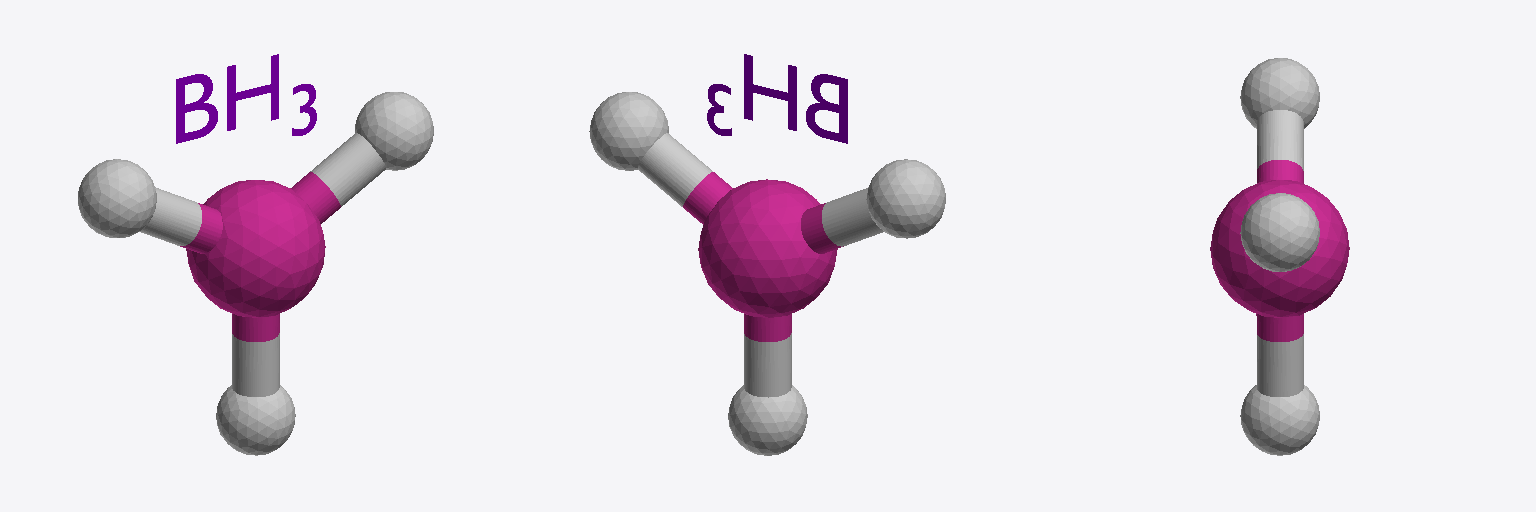
3 views of the same model, side by side, from view 1: azimuth 30°, elevation 25°; view 2: azimuth 150°, elevation 25°; view 3: azimuth 270°, elevation 25° (orthographic).
Parts seen in each view (by area): view 1: Shape_IndexedFaceSet.008_Shape_IndexedFaceSet.046, Shape_IndexedFaceSet.001_Shape_IndexedFaceSet.043, Shape_IndexedFaceSet.002_Shape_IndexedFaceSet.044, Shape_IndexedFaceSet.003_Shape_IndexedFaceSet.045, Text_Text.016, Text.001_Text.017; view 2: Shape_IndexedFaceSet.008_Shape_IndexedFaceSet.046, Shape_IndexedFaceSet.001_Shape_IndexedFaceSet.043, Shape_IndexedFaceSet.002_Shape_IndexedFaceSet.044, Shape_IndexedFaceSet.003_Shape_IndexedFaceSet.045, Text_Text.016, Text.001_Text.017; view 3: Shape_IndexedFaceSet.008_Shape_IndexedFaceSet.046, Shape_IndexedFaceSet.003_Shape_IndexedFaceSet.045, Shape_IndexedFaceSet.002_Shape_IndexedFaceSet.044, Shape_IndexedFaceSet.001_Shape_IndexedFaceSet.043.
Boxes of the visible parts, <box> form: Shape_IndexedFaceSet.008_Shape_IndexedFaceSet.046: <box>180,172,340,341</box>; Shape_IndexedFaceSet.001_Shape_IndexedFaceSet.043: <box>310,92,433,206</box>; Shape_IndexedFaceSet.002_Shape_IndexedFaceSet.044: <box>78,159,201,245</box>; Shape_IndexedFaceSet.003_Shape_IndexedFaceSet.045: <box>216,333,295,455</box>; Text_Text.016: <box>176,54,278,143</box>; Text.001_Text.017: <box>292,84,316,135</box>; Shape_IndexedFaceSet.008_Shape_IndexedFaceSet.046: <box>683,172,843,341</box>; Shape_IndexedFaceSet.001_Shape_IndexedFaceSet.043: <box>589,92,712,206</box>; Shape_IndexedFaceSet.002_Shape_IndexedFaceSet.044: <box>822,159,945,246</box>; Shape_IndexedFaceSet.003_Shape_IndexedFaceSet.045: <box>728,333,807,455</box>; Text_Text.016: <box>744,54,847,143</box>; Text.001_Text.017: <box>707,84,731,135</box>; Shape_IndexedFaceSet.008_Shape_IndexedFaceSet.046: <box>1210,160,1349,341</box>; Shape_IndexedFaceSet.003_Shape_IndexedFaceSet.045: <box>1240,334,1319,455</box>; Shape_IndexedFaceSet.002_Shape_IndexedFaceSet.044: <box>1240,58,1319,170</box>; Shape_IndexedFaceSet.001_Shape_IndexedFaceSet.043: <box>1240,193,1319,271</box>.
Size of the model in its own units: 25.32 by 27.44 by 8.84.